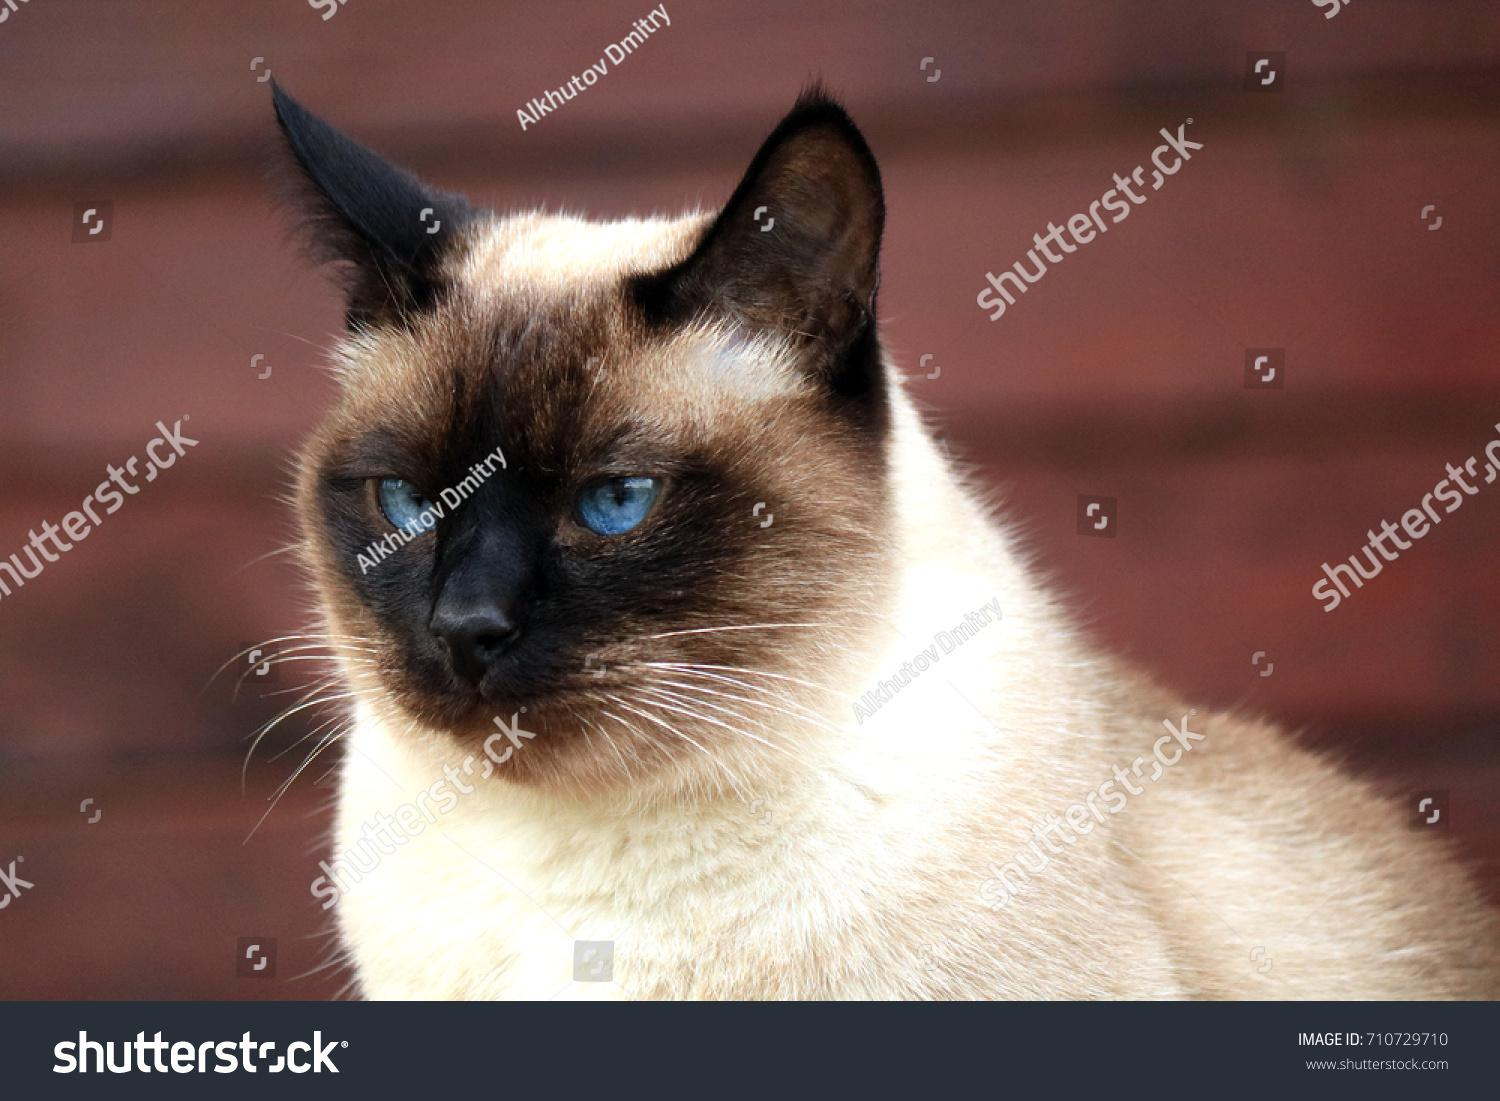siamese: (248, 61, 921, 803)
